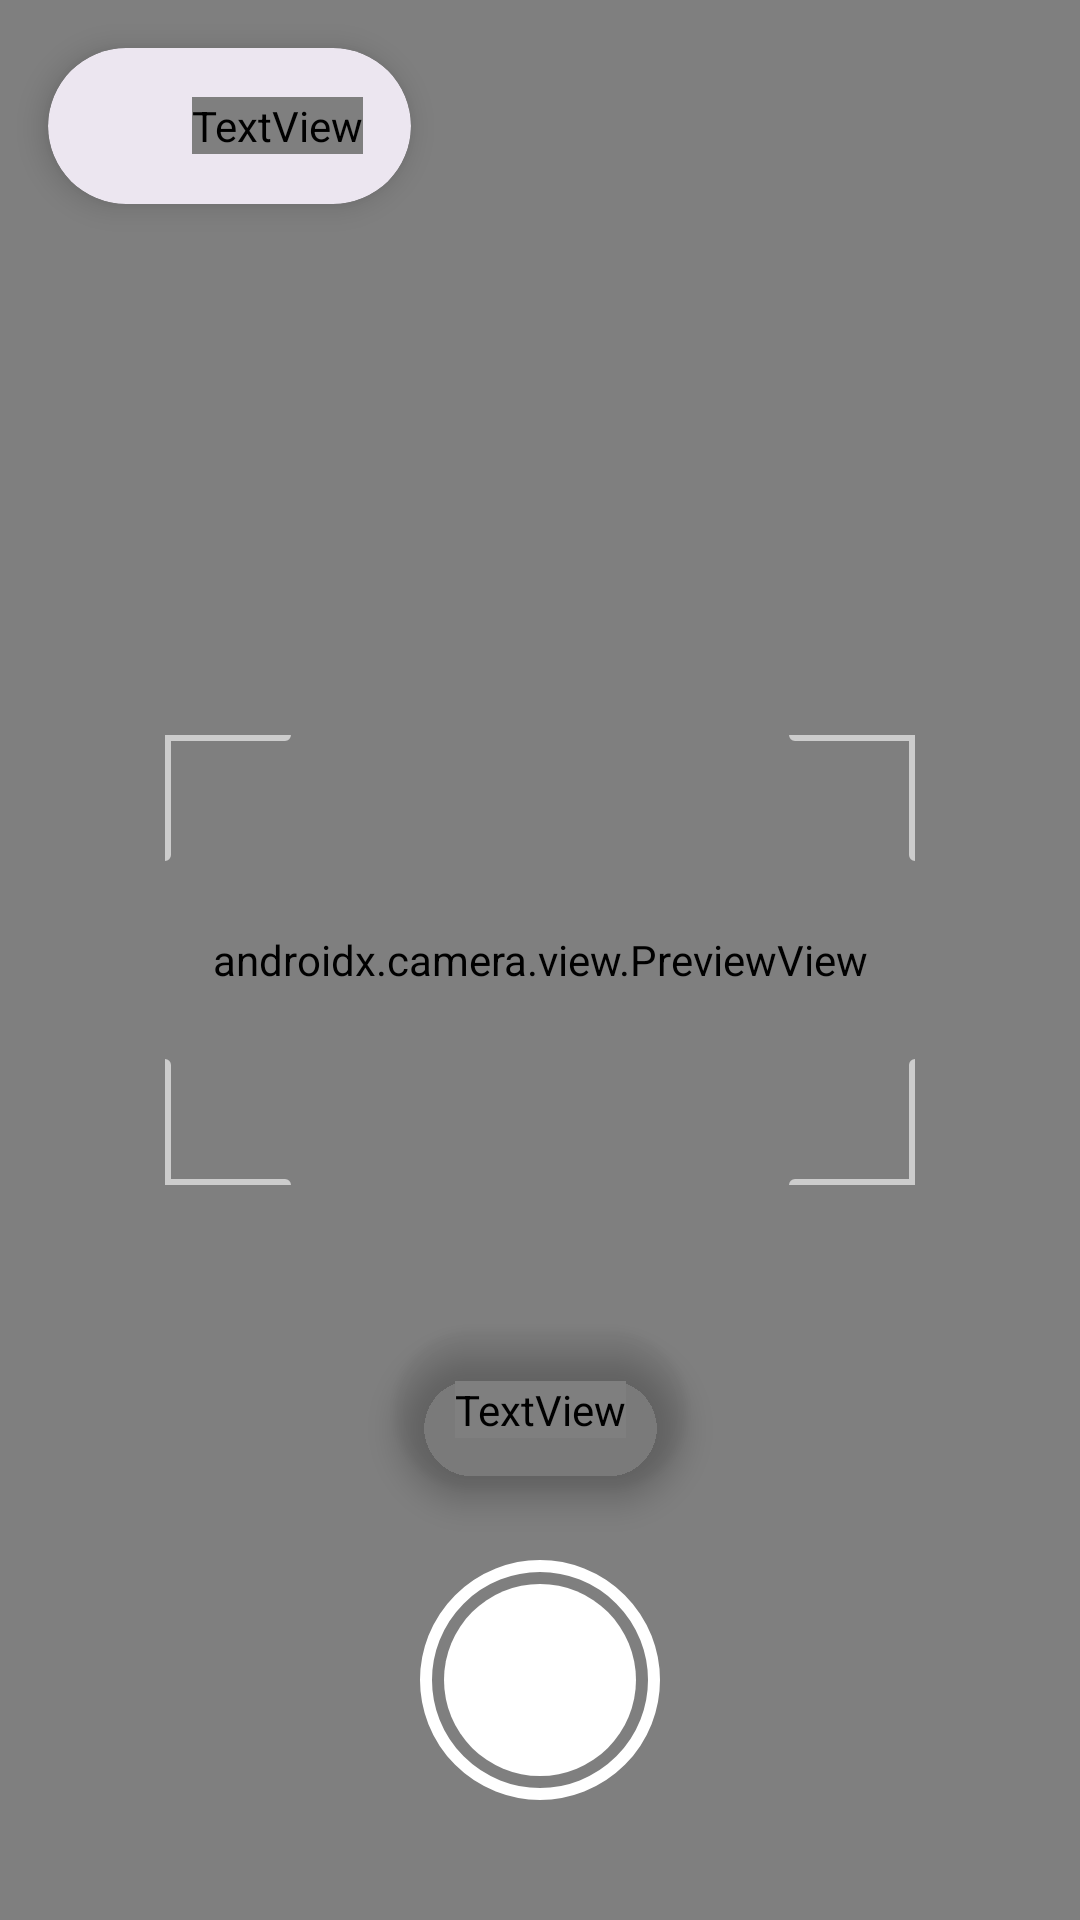

Where to tap for icons on this 1080px×1920px app screen, as [x,y]:
shutter: [540,1680]
